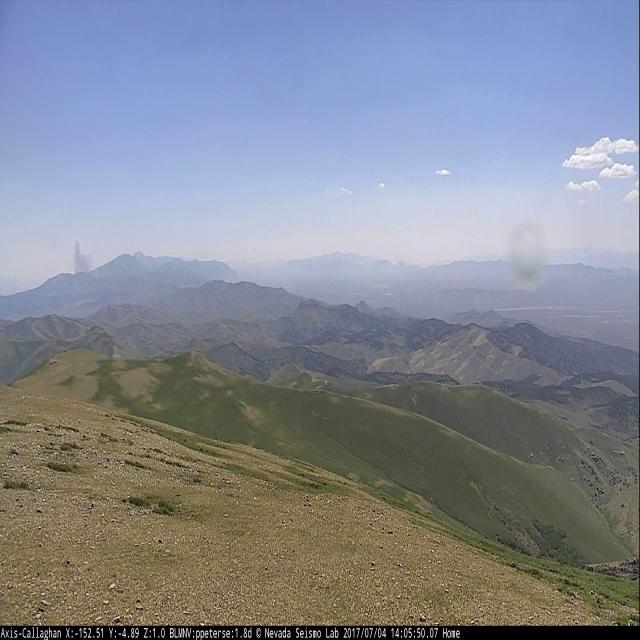smoke: (73, 240, 96, 272)
